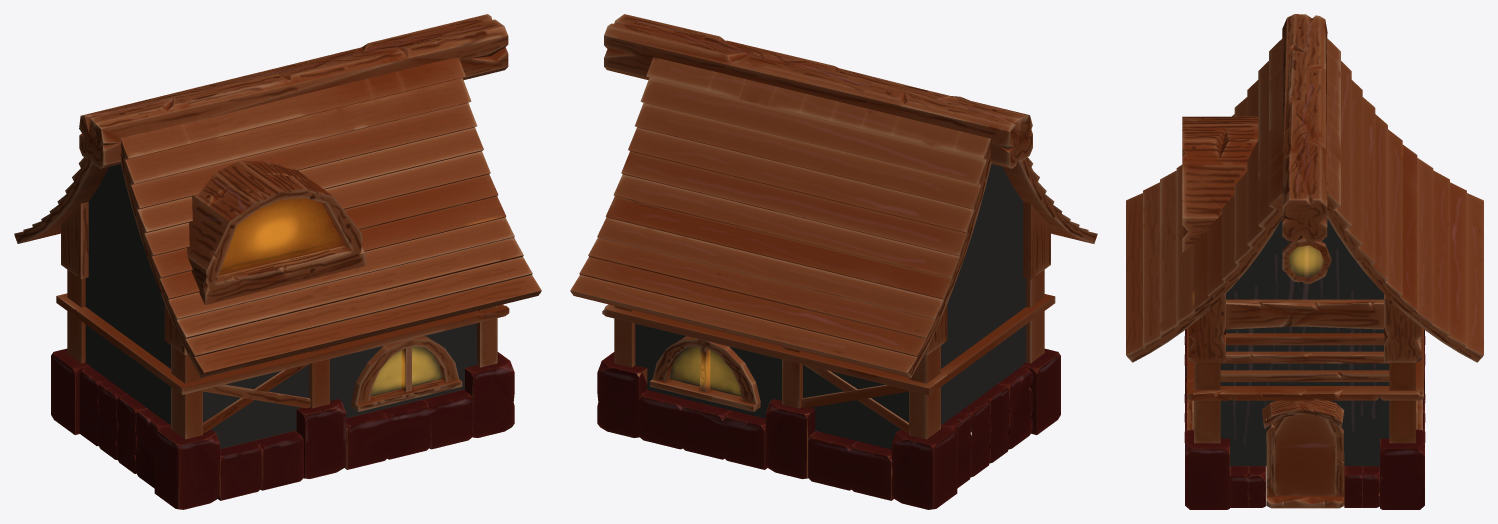
Rendered from house.glb.
The picture shows the model from 3 angles, left to right: view 1: azimuth 30°, elevation 25°; view 2: azimuth 150°, elevation 25°; view 3: azimuth 270°, elevation 25°; orthographic projection. The views are drawn at different scales.
Visible parts, largest first — view 1: defaultobject; view 2: defaultobject; view 3: defaultobject.
Part boxes in pixels (x1,y1,x2,y2): defaultobject: [14, 14, 541, 509]; defaultobject: [570, 14, 1097, 509]; defaultobject: [1126, 14, 1483, 509].
Bounding box in the file's own units: 2 × 1.66 × 1.62.
Materials: 1 (1 with a texture image).
